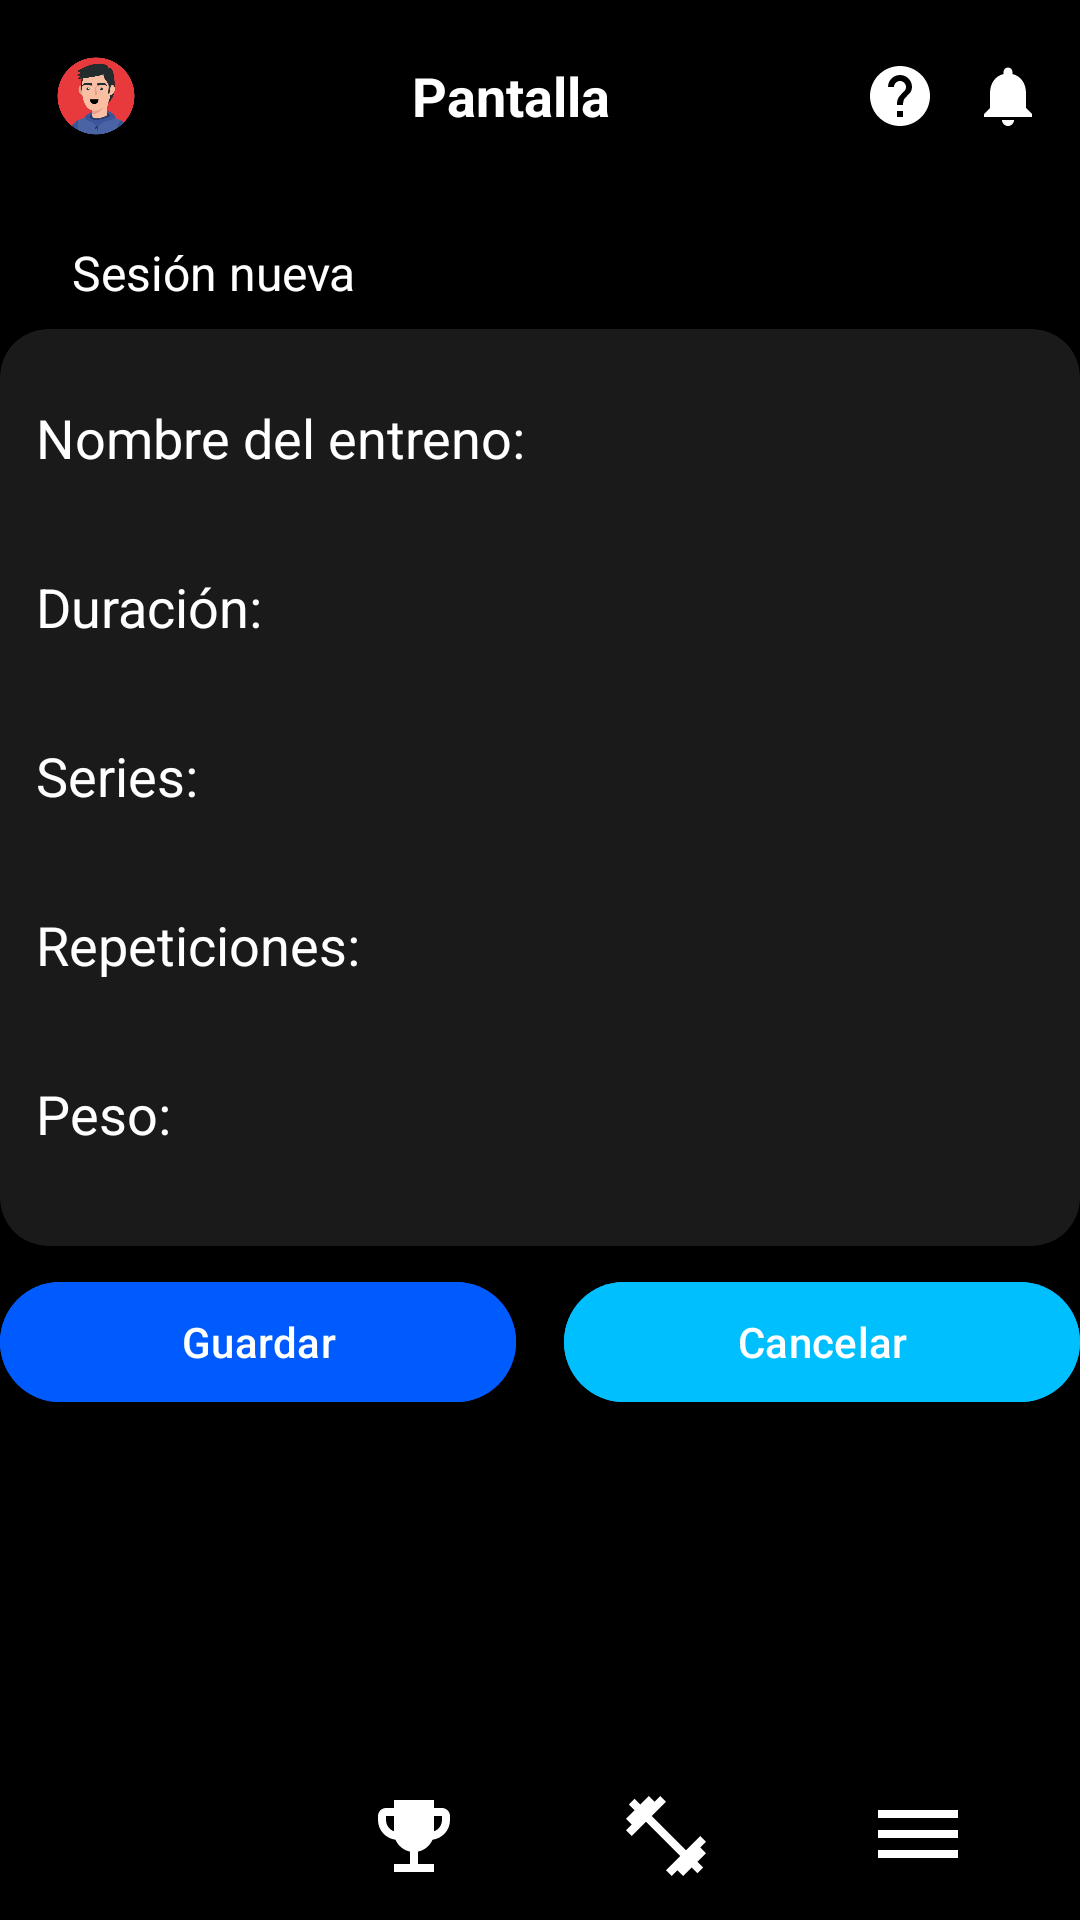

Locate icon controls on the screen. Image size 1080×1920, boxes as [left=x1, top=y1, right=x2, bottom=y2].
Ayuda: [left=870, top=66, right=930, bottom=126]
Icono de entrenamiento: [left=626, top=1796, right=706, bottom=1876]
Icono de logros: [left=378, top=1800, right=450, bottom=1872]
Icono del menú: [left=878, top=1810, right=958, bottom=1858]
Notificaciones: [left=984, top=67, right=1032, bottom=126]
